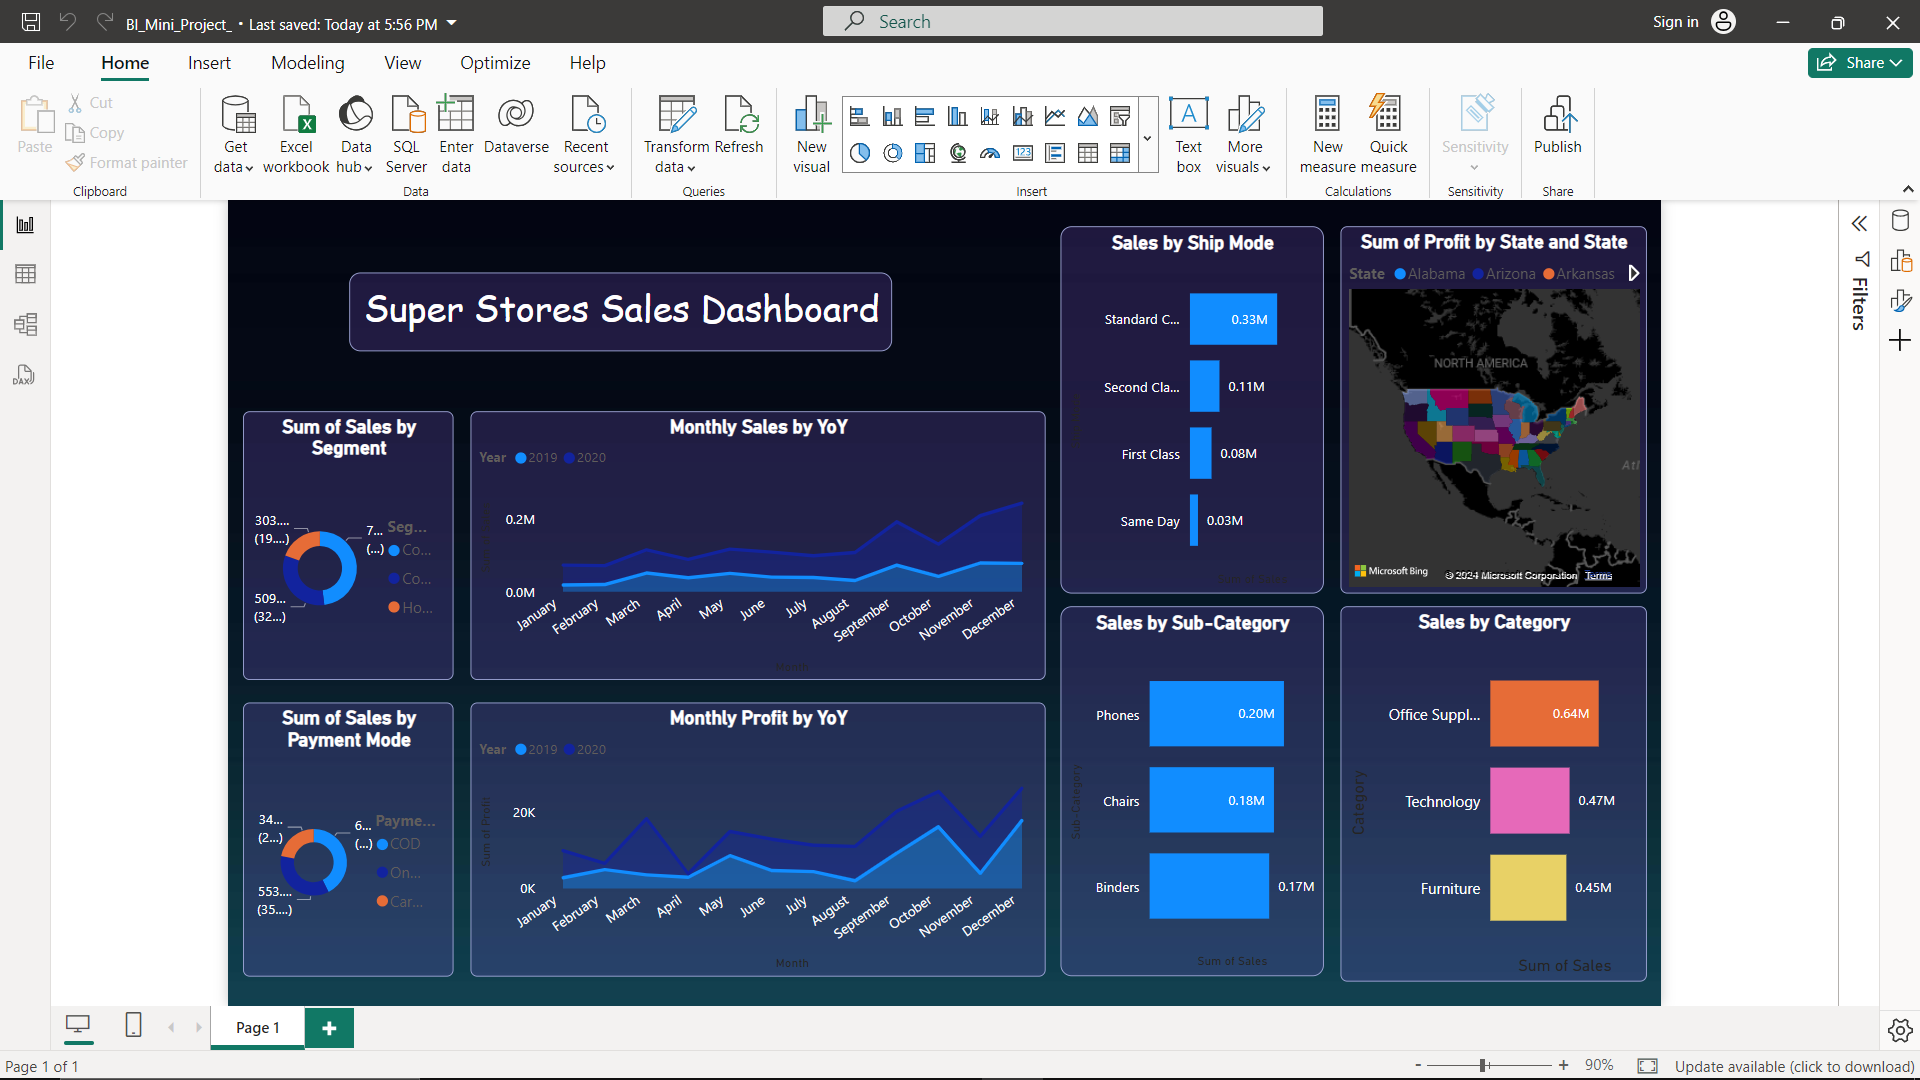

What the dashboard file says about the page in this screenshot:
{"tool":"powerbi","page":{"name":"Page 1","canvas":[1280,720],"ordinal":0},"visuals":[{"type":"clusteredBarChart","title":"Sales by Category","fields":{"Category":["SuperStore_Sales_Dataset.Category"],"Y":["SuperStore_Sales_Dataset.Sales"]},"box":[993.3,363.3,273.3,335],"z":0},{"type":"clusteredBarChart","title":"Sales by Sub-Category","fields":{"Y":["SuperStore_Sales_Dataset.Sales"],"Category":["SuperStore_Sales_Dataset.Sub-Category"]},"box":[743.3,363.3,235,330],"z":1000},{"type":"clusteredBarChart","title":"Sales by Ship Mode","fields":{"Y":["SuperStore_Sales_Dataset.Sales"],"Category":["SuperStore_Sales_Dataset.Ship Mode"]},"box":[743.3,23.3,235,328.3],"z":2000},{"type":"stackedAreaChart","title":"Monthly Sales by YoY","fields":{"Y":["SuperStore_Sales_Dataset.Sales"],"Category":["SuperStore_Sales_Dataset.Order Date.Variation.Date Hierarchy.Month","SuperStore_Sales_Dataset.Order Date.Variation.Date Hierarchy.Day"],"Series":["SuperStore_Sales_Dataset.Order Date.Variation.Date Hierarchy.Year"]},"box":[216.7,188.3,513.3,240],"z":3000},{"type":"stackedAreaChart","title":"Monthly Profit by YoY","fields":{"Y":["SuperStore_Sales_Dataset.Profit"],"Category":["SuperStore_Sales_Dataset.Order Date.Variation.Date Hierarchy.Month","SuperStore_Sales_Dataset.Order Date.Variation.Date Hierarchy.Day"],"Series":["SuperStore_Sales_Dataset.Order Date.Variation.Date Hierarchy.Year"]},"box":[216.7,448.3,513.3,245],"z":3001},{"type":"filledMap","fields":{"Category":["SuperStore_Sales_Dataset.State"],"Series":["SuperStore_Sales_Dataset.State"]},"box":[993.3,23.3,273.3,328.3],"z":3002},{"type":"donutChart","fields":{"Category":["SuperStore_Sales_Dataset.Segment"],"Y":["SuperStore_Sales_Dataset.Sales"]},"box":[13.3,188.3,188.3,240],"z":3003},{"type":"donutChart","fields":{"Category":["SuperStore_Sales_Dataset.Payment Mode"],"Y":["SuperStore_Sales_Dataset.Sales"]},"box":[13.3,448.3,188.3,245],"z":3004},{"type":"textbox","box":[108.3,65,485,70],"z":3005}]}

Visuals, with their boxes on the page's 1280x720 design canvas (x1, y1, x2, y2). These are canvas units, not pixel positions in the 1920x1080 screenshot, which may show the page scaled, cropped or inside an application window:
"Sales by Category" clusteredBarChart: pyautogui.locateOnScreen(993, 363, 1267, 698)
"Sales by Sub-Category" clusteredBarChart: pyautogui.locateOnScreen(743, 363, 978, 693)
"Sales by Ship Mode" clusteredBarChart: pyautogui.locateOnScreen(743, 23, 978, 352)
"Monthly Sales by YoY" stackedAreaChart: pyautogui.locateOnScreen(217, 188, 730, 428)
"Monthly Profit by YoY" stackedAreaChart: pyautogui.locateOnScreen(217, 448, 730, 693)
filledMap - SuperStore_Sales_Dataset.State x SuperStore_Sales_Dataset.State: pyautogui.locateOnScreen(993, 23, 1267, 352)
donutChart - SuperStore_Sales_Dataset.Segment x SuperStore_Sales_Dataset.Sales: pyautogui.locateOnScreen(13, 188, 202, 428)
donutChart - SuperStore_Sales_Dataset.Payment Mode x SuperStore_Sales_Dataset.Sales: pyautogui.locateOnScreen(13, 448, 202, 693)
textbox: pyautogui.locateOnScreen(108, 65, 593, 135)
